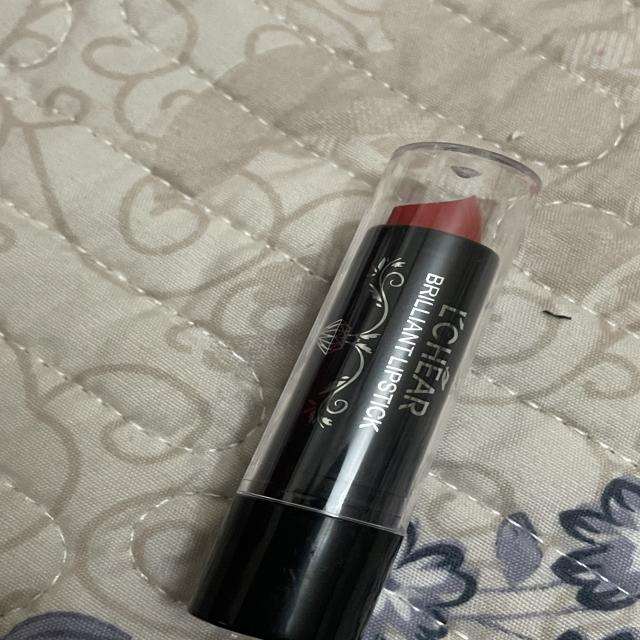lip stick: (174, 132, 559, 640)
